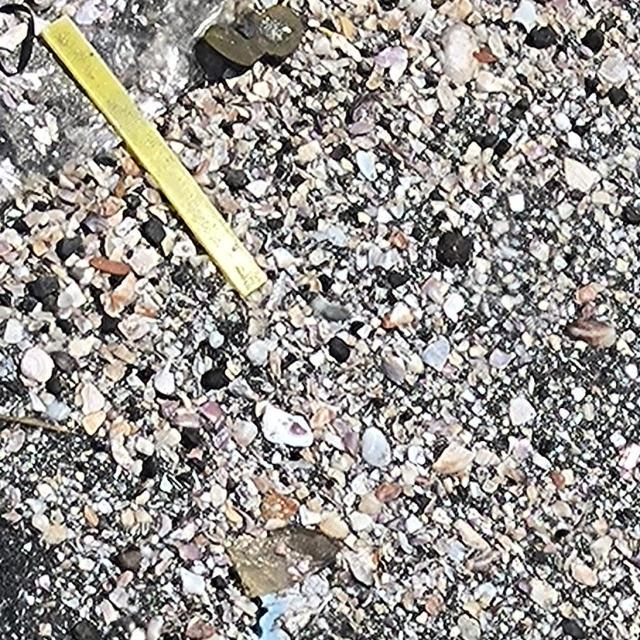plastic_waste: (39, 12, 274, 299)
